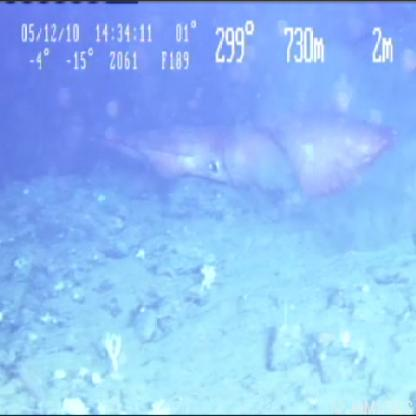Bio: (77, 105, 407, 210)
